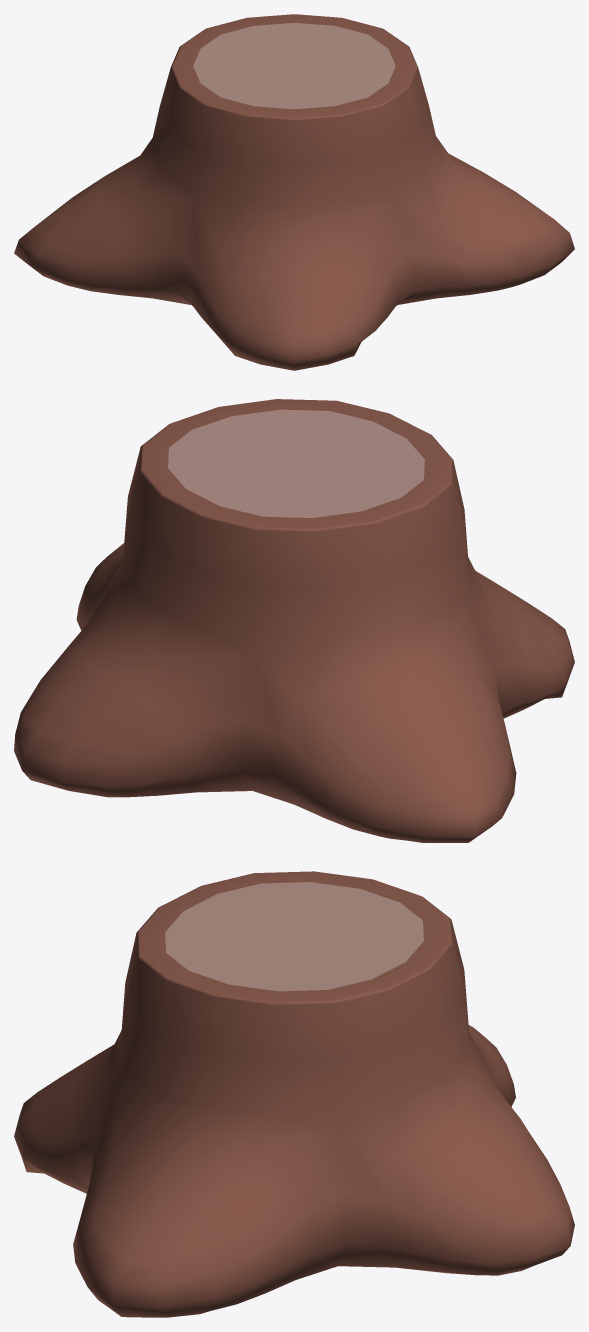
File: Farm_7_Stump_1.glb
3 renders of one model, top to bottom at view 1: azimuth 30°, elevation 25°; view 2: azimuth 150°, elevation 25°; view 3: azimuth 270°, elevation 25°, orthographic. The views are drawn at different scales.
Visible parts, largest first — view 1: Farm_7_Stump_1; view 2: Farm_7_Stump_1; view 3: Farm_7_Stump_1.
Part boxes in pixels (left/top/right/bottom): Farm_7_Stump_1: left=14, top=14, right=574, bottom=370; Farm_7_Stump_1: left=14, top=399, right=574, bottom=842; Farm_7_Stump_1: left=14, top=871, right=574, bottom=1317.
Size of the model in its own units: 1.2 by 0.555 by 1.06.
Materials: 1 (1 with a texture image).
